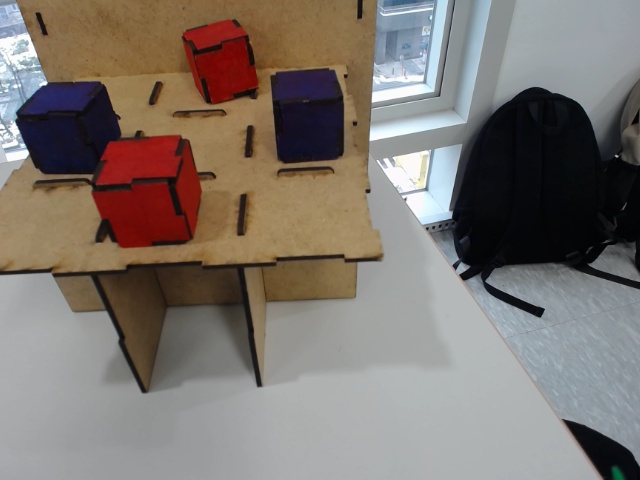blue: (16, 79, 122, 173), (265, 68, 349, 161)
red: (93, 136, 201, 248), (179, 19, 258, 104)
